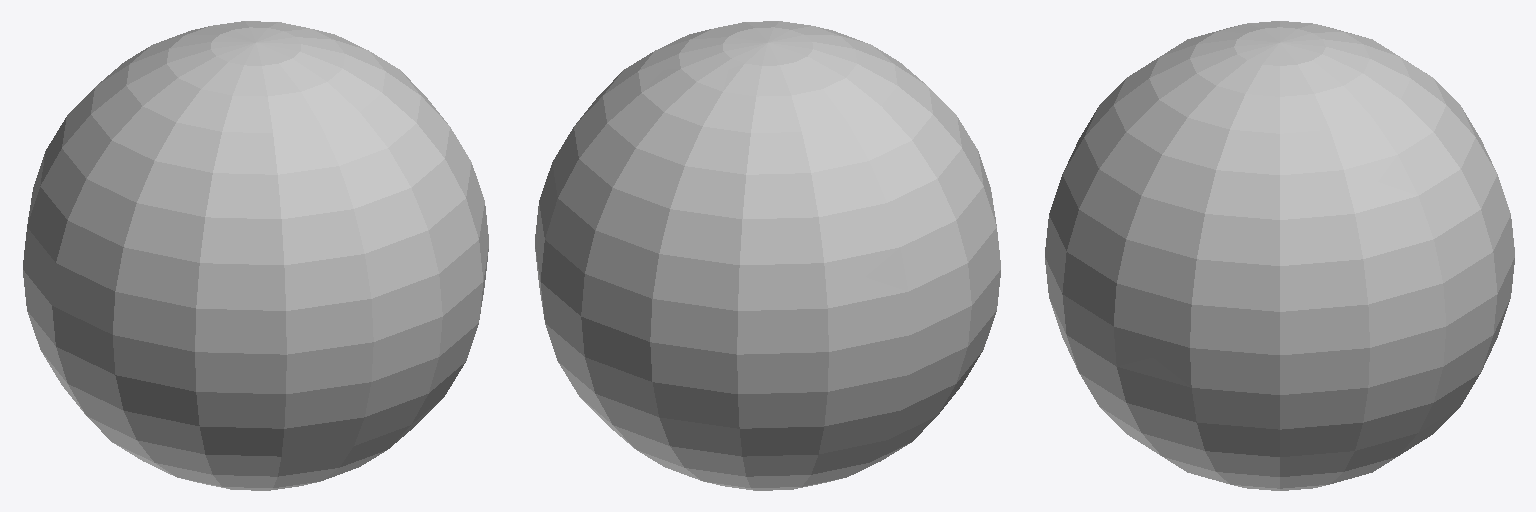
Rendered from spheres.obj.
The picture shows the model from 3 angles: view 1: azimuth 30°, elevation 25°; view 2: azimuth 150°, elevation 25°; view 3: azimuth 270°, elevation 25°; orthographic projection.
Visible parts, largest first — view 1: mesh_1, mesh_12, mesh_3, mesh_2, mesh_6, mesh_18, mesh_0, mesh_7, mesh_13, mesh_19, mesh_16, mesh_11 (+6 smaller); view 2: mesh_1, mesh_3, mesh_12, mesh_2, mesh_18, mesh_6, mesh_0, mesh_7, mesh_13, mesh_16, mesh_19, mesh_17 (+5 smaller); view 3: mesh_1, mesh_12, mesh_3, mesh_6, mesh_2, mesh_0, mesh_7, mesh_18, mesh_13, mesh_16, mesh_19, mesh_11 (+6 smaller).
Boxes of the visible parts, x1,y1,x2,y2 form: mesh_1: [40, 48, 471, 264]; mesh_12: [27, 148, 488, 310]; mesh_3: [41, 324, 478, 476]; mesh_2: [23, 187, 488, 393]; mesh_6: [63, 48, 470, 218]; mesh_18: [23, 251, 488, 393]; mesh_0: [126, 21, 399, 132]; mesh_7: [23, 151, 488, 354]; mesh_13: [23, 271, 484, 428]; mesh_19: [41, 351, 442, 476]; mesh_16: [127, 21, 384, 132]; mesh_11: [91, 32, 447, 174]; mesh_1: [552, 48, 983, 264]; mesh_3: [545, 311, 996, 476]; mesh_12: [540, 117, 996, 310]; mesh_2: [535, 166, 1000, 393]; mesh_18: [535, 228, 1000, 393]; mesh_6: [574, 47, 961, 218]; mesh_0: [638, 21, 897, 132]; mesh_7: [535, 165, 998, 354]; mesh_13: [535, 251, 1000, 428]; mesh_16: [639, 22, 897, 132]; mesh_19: [560, 352, 981, 475]; mesh_17: [553, 102, 982, 264]; mesh_1: [1063, 49, 1496, 265]; mesh_12: [1050, 108, 1510, 354]; mesh_3: [1051, 301, 1509, 488]; mesh_6: [1084, 49, 1475, 265]; mesh_2: [1045, 210, 1513, 429]; mesh_0: [1149, 21, 1410, 174]; mesh_7: [1045, 174, 1514, 394]; mesh_18: [1045, 215, 1514, 428]; mesh_13: [1045, 258, 1508, 456]; mesh_16: [1151, 22, 1409, 132]; mesh_19: [1100, 403, 1458, 476]; mesh_11: [1115, 30, 1445, 218].
Bounding box in the file's own units: 2 × 2 × 2.